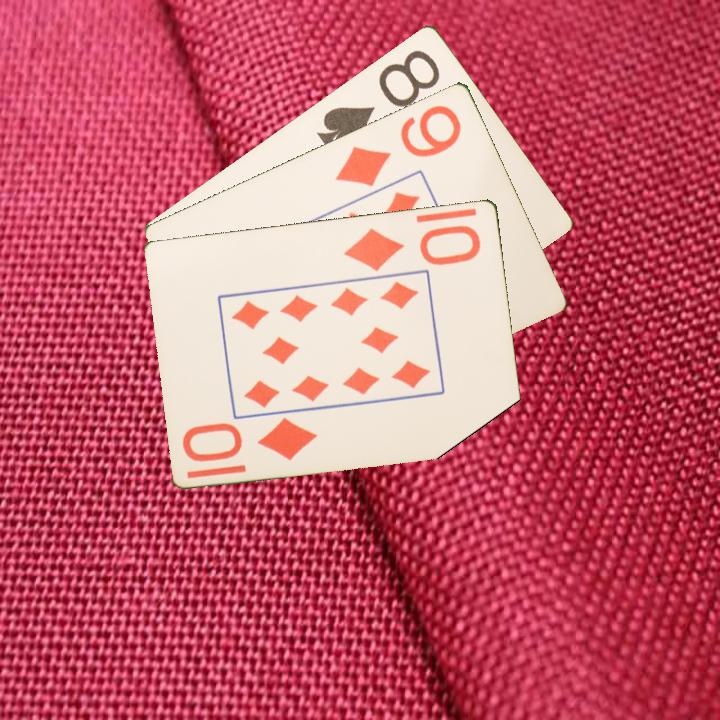10d: (340, 221, 484, 274), (179, 414, 321, 464)
8s: (313, 45, 444, 153)
9d: (331, 100, 465, 189)
